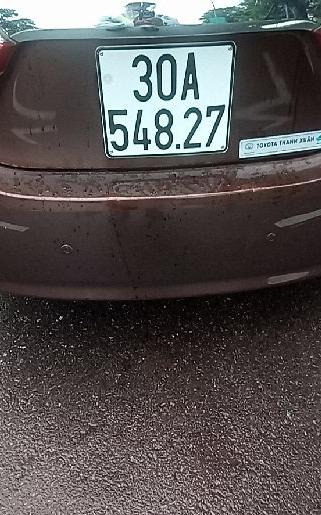Plate-iWeP: (102, 45, 233, 154)
